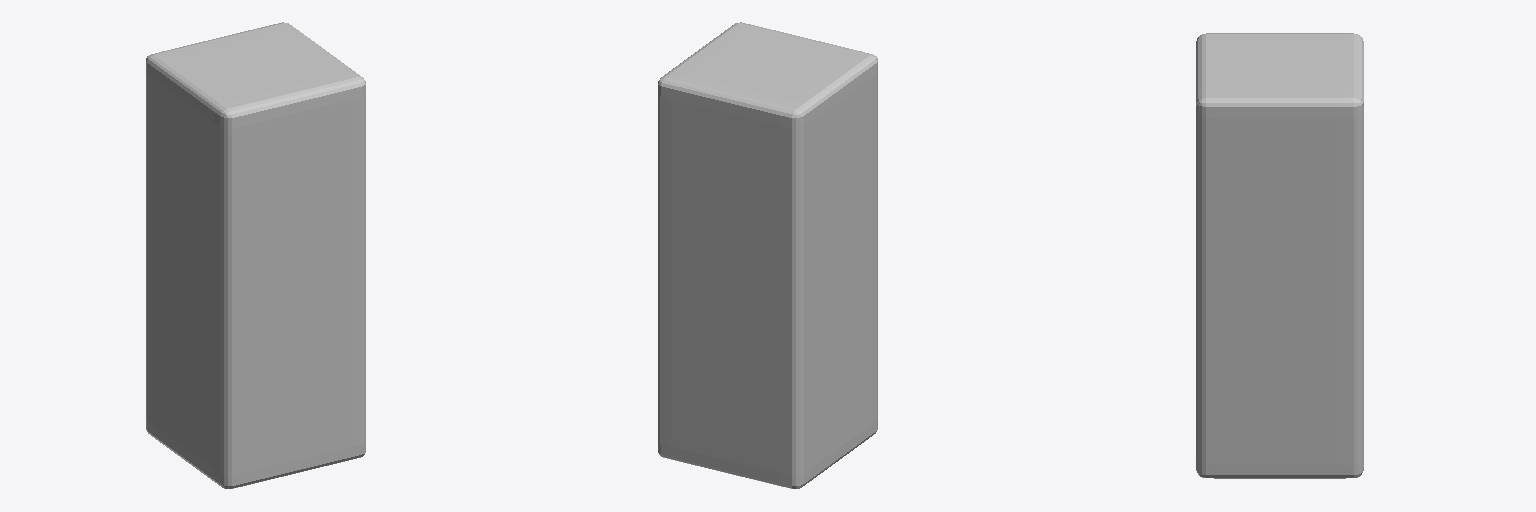
The model's file is cube-long-highpoly.obj.
3 renders of one model, left to right at view 1: azimuth 30°, elevation 25°; view 2: azimuth 150°, elevation 25°; view 3: azimuth 270°, elevation 25°, orthographic.
Visible parts, largest first — view 1: Group1; view 2: Group1; view 3: Group1.
Boxes of the visible parts, x1,y1,x2,y2 form: Group1: [146, 22, 365, 488]; Group1: [658, 22, 877, 488]; Group1: [1196, 33, 1363, 478].
Size of the model in its own units: 0.4 by 1 by 0.4.